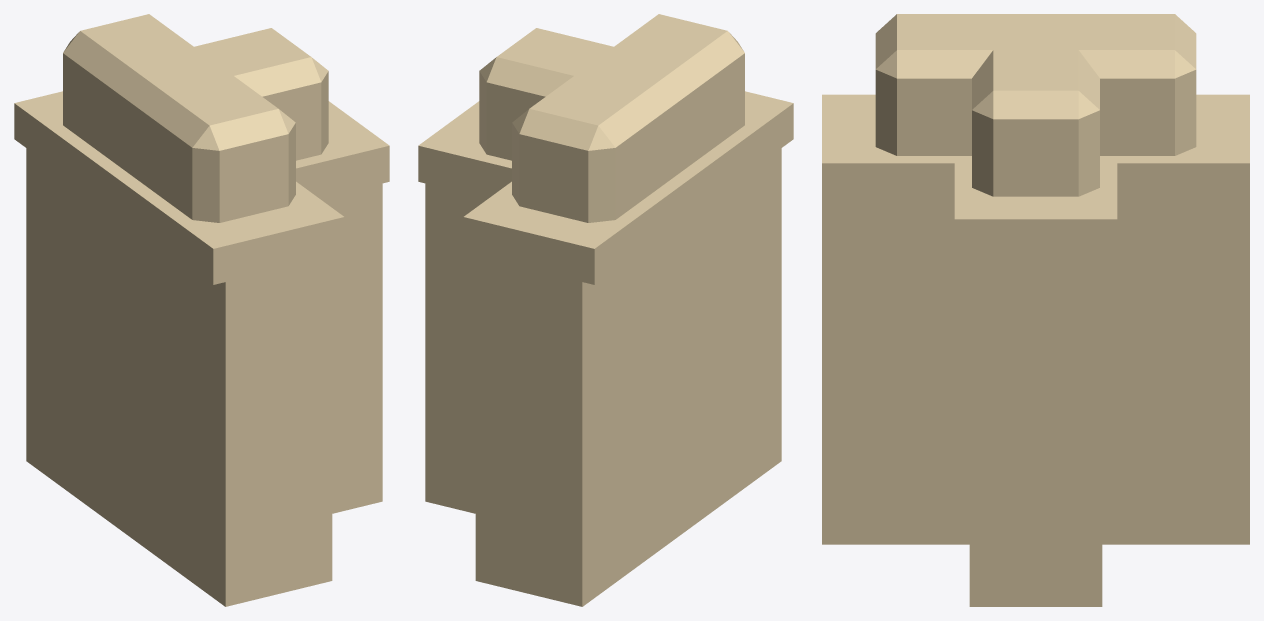
Rendered from wall_tri_upper.glb.
3 renders of one model, left to right at view 1: azimuth 30°, elevation 25°; view 2: azimuth 150°, elevation 25°; view 3: azimuth 270°, elevation 25°, orthographic. The views are drawn at different scales.
Visible parts, largest first — view 1: wall; view 2: wall; view 3: wall.
Boxes of the visible parts, x1,y1,x2,y2 form: wall: (14, 14, 389, 606); wall: (418, 14, 793, 606); wall: (822, 14, 1249, 606).
Bounding box in the file's own units: 0.69 × 1.25 × 1.
